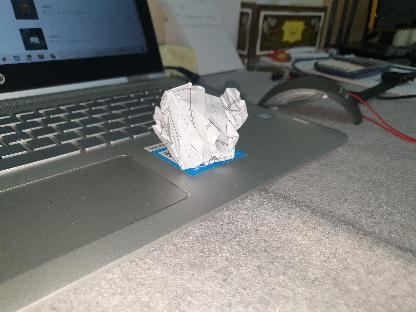Paper: (150, 80, 252, 176)
